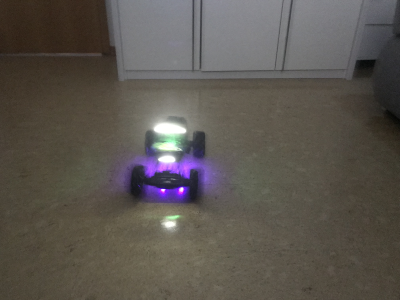remote control car: (128, 112, 207, 202)
